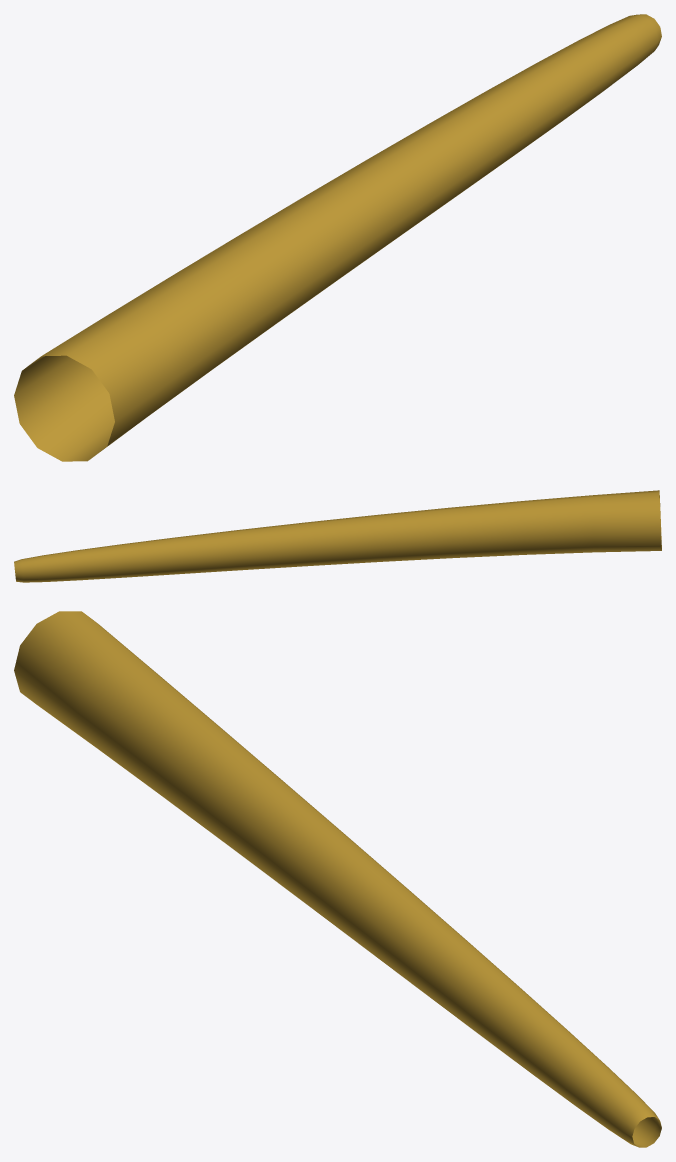
3 renders of one model, top to bottom at view 1: azimuth 30°, elevation 25°; view 2: azimuth 150°, elevation 25°; view 3: azimuth 270°, elevation 25°, orthographic. The views are drawn at different scales.
Parts seen in each view (by area): view 1: 左侧臂丛下干后股; view 2: 左侧臂丛下干后股; view 3: 左侧臂丛下干后股.
Boxes of the visible parts, bbox=[...] form: 左侧臂丛下干后股: bbox=[14, 14, 661, 461]; 左侧臂丛下干后股: bbox=[14, 490, 661, 582]; 左侧臂丛下干后股: bbox=[14, 611, 661, 1147].
Bounding box in the file's own units: 0.0413 × 0.00641 × 0.0272.
